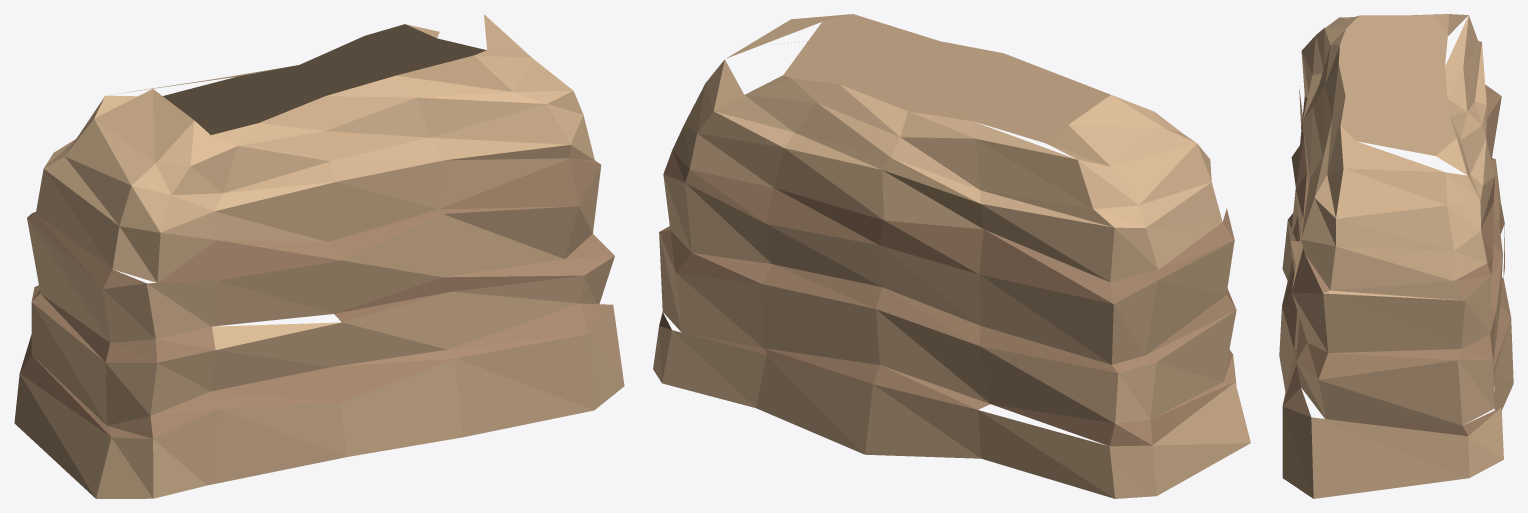
Rendered from sandstone_screen.glb.
The picture shows the model from 3 angles, left to right: view 1: azimuth 30°, elevation 25°; view 2: azimuth 150°, elevation 25°; view 3: azimuth 270°, elevation 25°; orthographic projection. The views are drawn at different scales.
Parts seen in each view (by area): view 1: sandstone_screen; view 2: sandstone_screen; view 3: sandstone_screen.
Boxes of the visible parts, x1,y1,x2,y2 form: sandstone_screen: (14, 14, 624, 498); sandstone_screen: (653, 14, 1250, 498); sandstone_screen: (1279, 14, 1513, 498).
Bounding box in the file's own units: 15.1 × 9.73 × 6.57.
